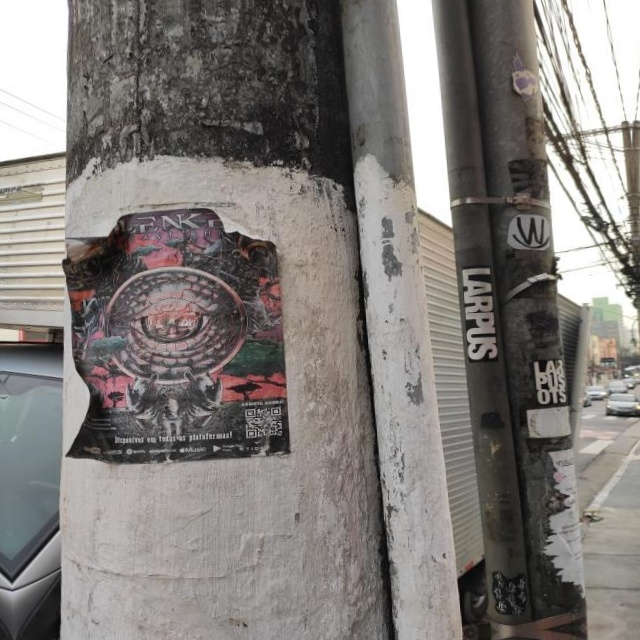qr-code: (244, 407, 283, 438)
